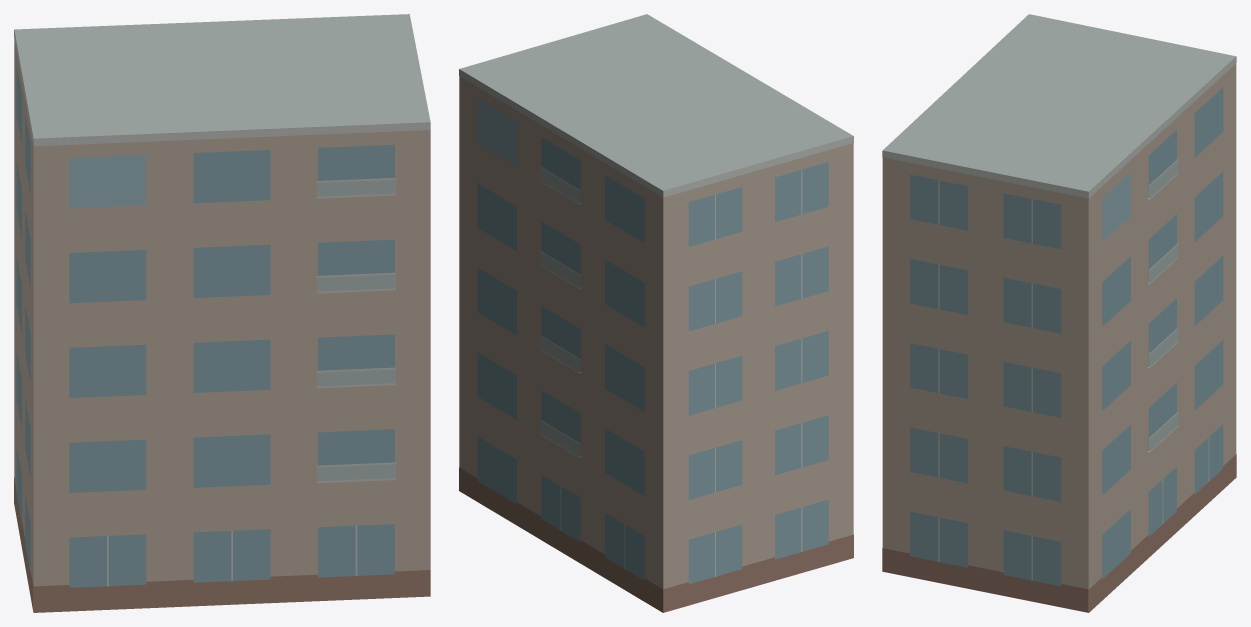
The model's file is survey-upis-32531291.glb.
3 views of the same model, side by side, from view 1: azimuth 30°, elevation 25°; view 2: azimuth 150°, elevation 25°; view 3: azimuth 270°, elevation 25° (orthographic). The views are drawn at different scales.
Visible parts, largest first — view 1: survey-upis-32531291.tmp; view 2: survey-upis-32531291.tmp; view 3: survey-upis-32531291.tmp.
Part boxes in pixels (x1,y1,x2,y2): survey-upis-32531291.tmp: (14,14,430,612); survey-upis-32531291.tmp: (459,14,853,612); survey-upis-32531291.tmp: (882,14,1236,612).
Size of the model in its own units: 13.62 by 15.05 by 11.47.
